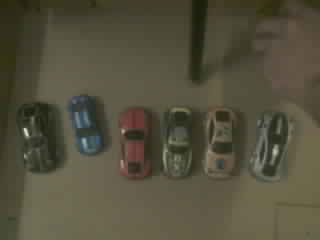Car: (250, 112, 291, 180), (18, 103, 57, 172), (120, 107, 151, 178), (204, 107, 235, 178), (163, 107, 192, 177), (69, 95, 102, 152)
